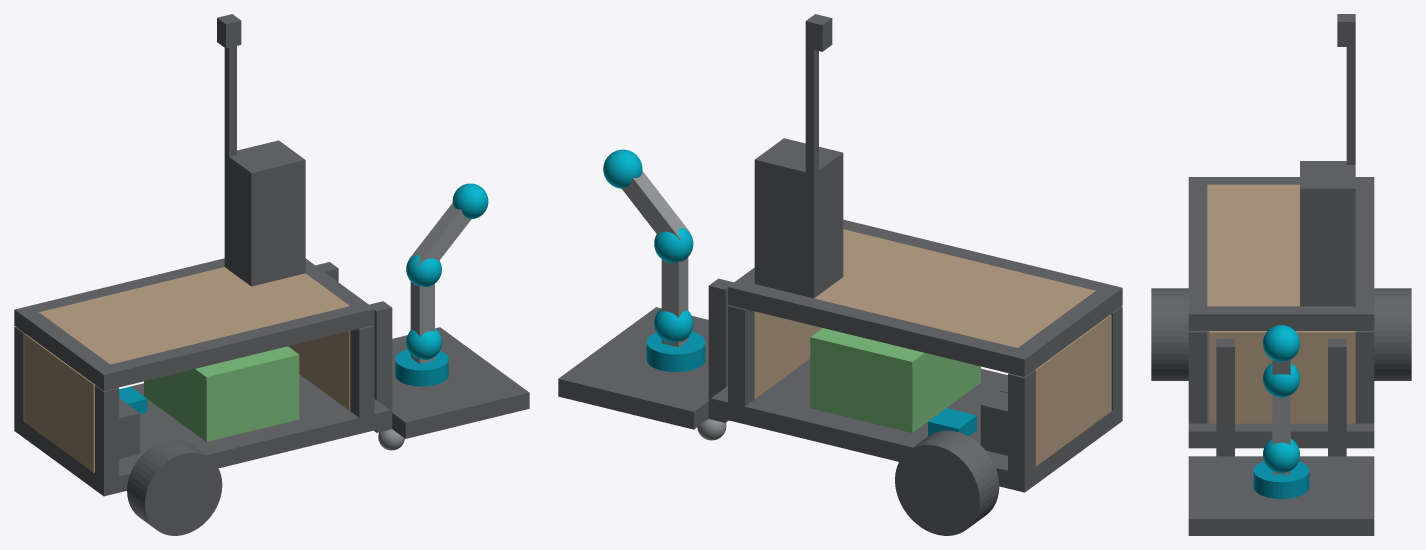
File: unipolitov4.glb
3 views of the same model, side by side, from view 1: azimuth 30°, elevation 25°; view 2: azimuth 150°, elevation 25°; view 3: azimuth 270°, elevation 25° (orthographic). The views are drawn at different scales.
Parts seen in each view (by area): view 1: Mesh_Mesh_head_geo.001_lambert2SG.001; view 2: Mesh_Mesh_head_geo.001_lambert2SG.001; view 3: Mesh_Mesh_head_geo.001_lambert2SG.001.
Boxes of the visible parts, x1=… form: Mesh_Mesh_head_geo.001_lambert2SG.001: x1=14, y1=14, x2=529, y2=535; Mesh_Mesh_head_geo.001_lambert2SG.001: x1=558, y1=14, x2=1122, y2=535; Mesh_Mesh_head_geo.001_lambert2SG.001: x1=1151, y1=14, x2=1411, y2=535.
Size of the model in its own units: 0.0551 by 0.051 by 0.028.
